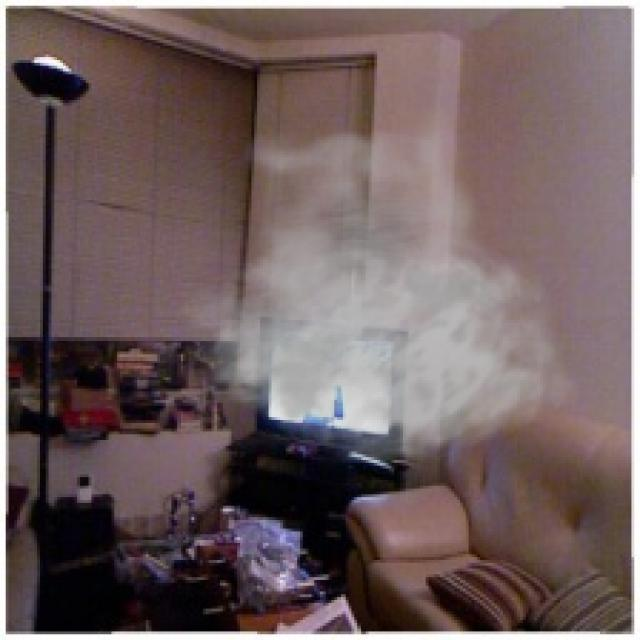smoke: (169, 97, 577, 466)
